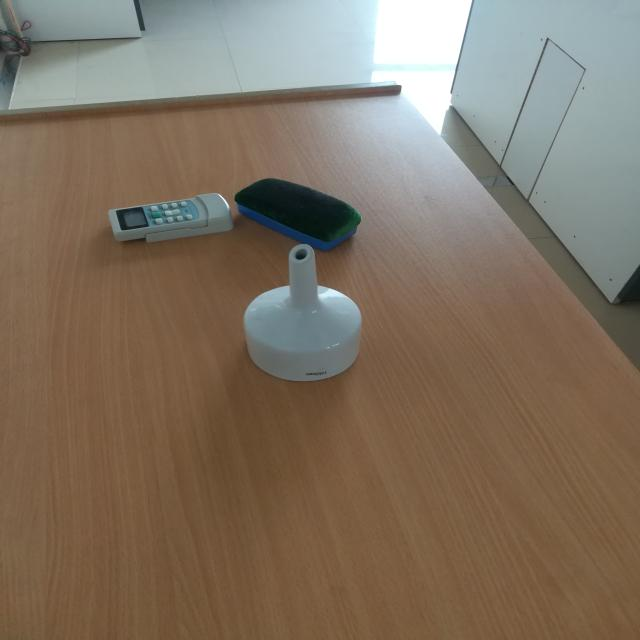Buchner_Funnel: (214, 234, 402, 416)
